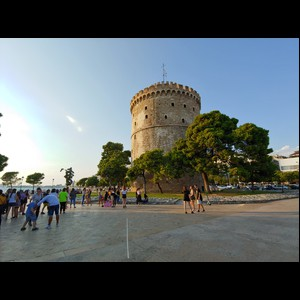White Tower: (129, 62, 203, 193)
